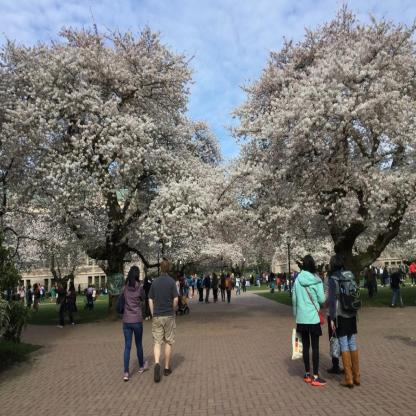Someiyoshino: (3, 28, 217, 255), (224, 3, 414, 250), (130, 155, 268, 288)
